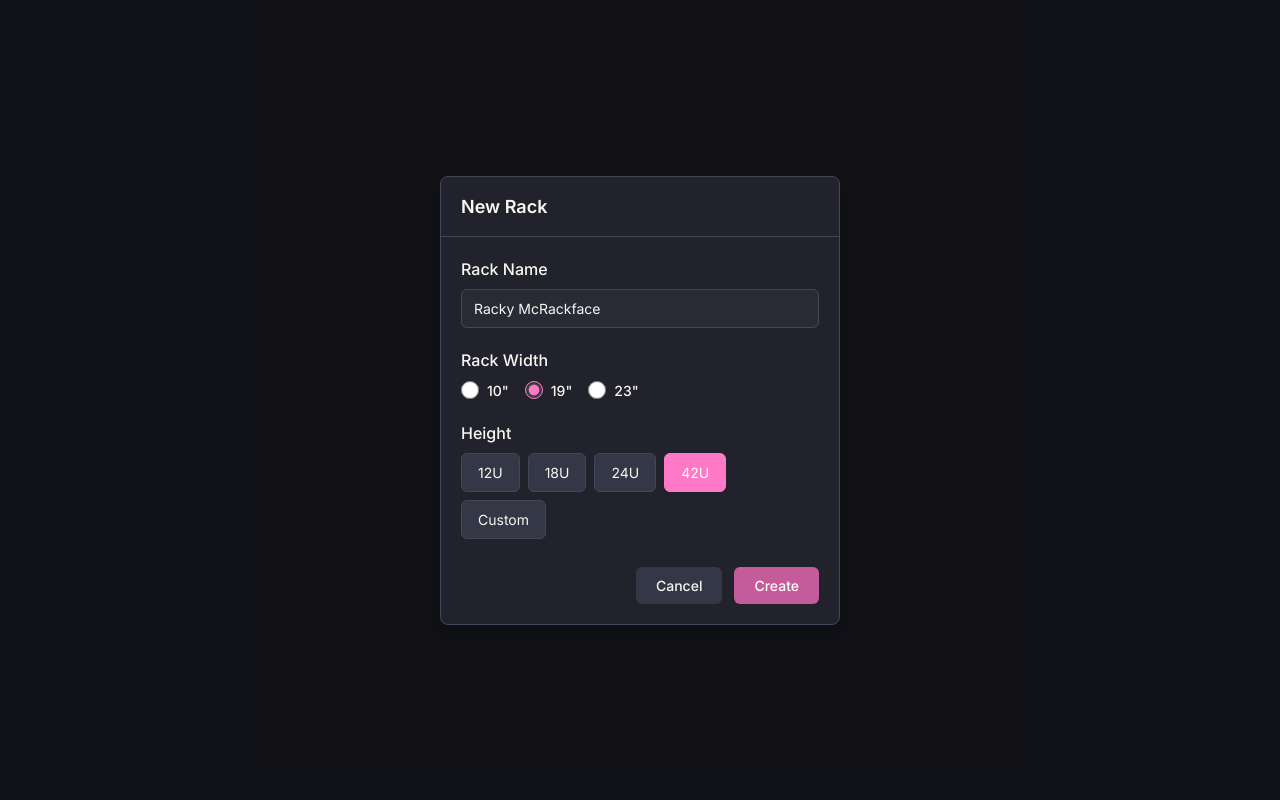
Test: NewRackForm Component › Height selection › custom option shows number input
Click the button "Custom".
click(504, 519)  # box [461, 500, 546, 538]
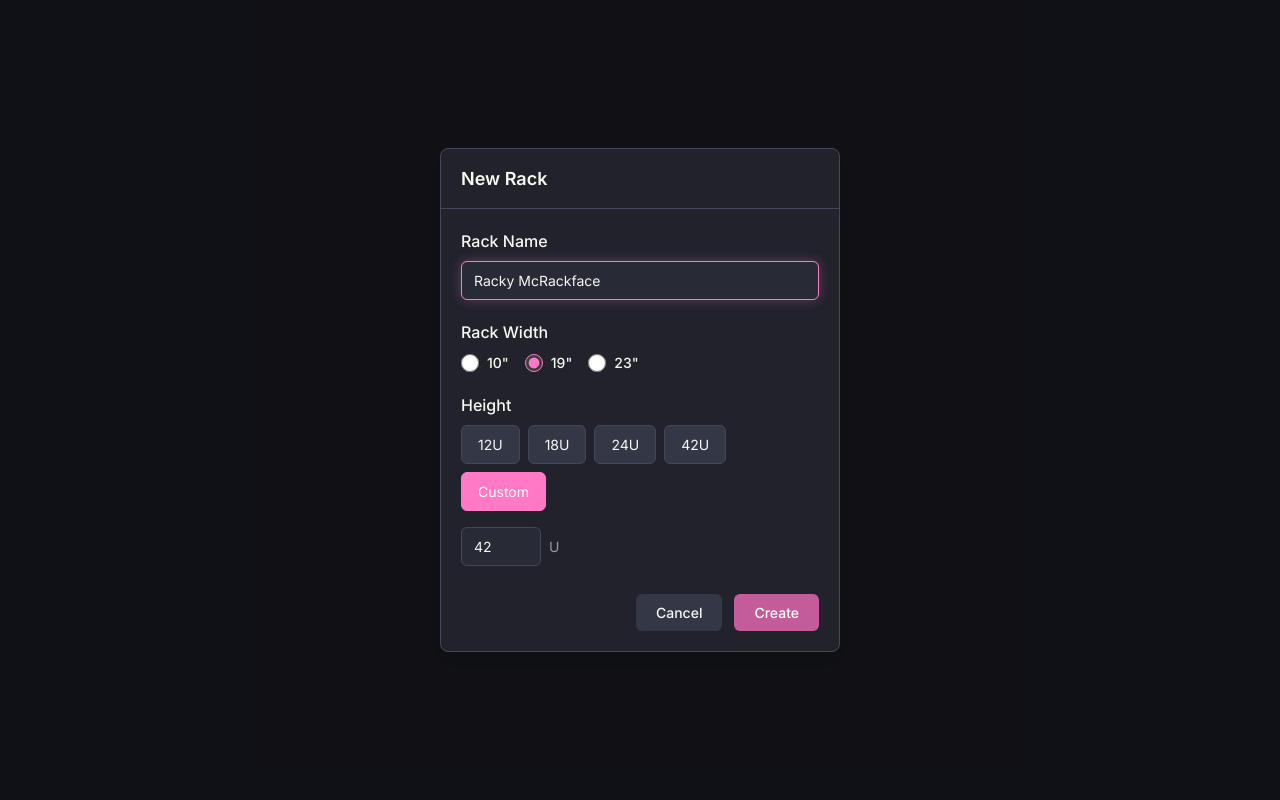
Result: the number field named "height" is shown at [461, 527, 541, 566]
